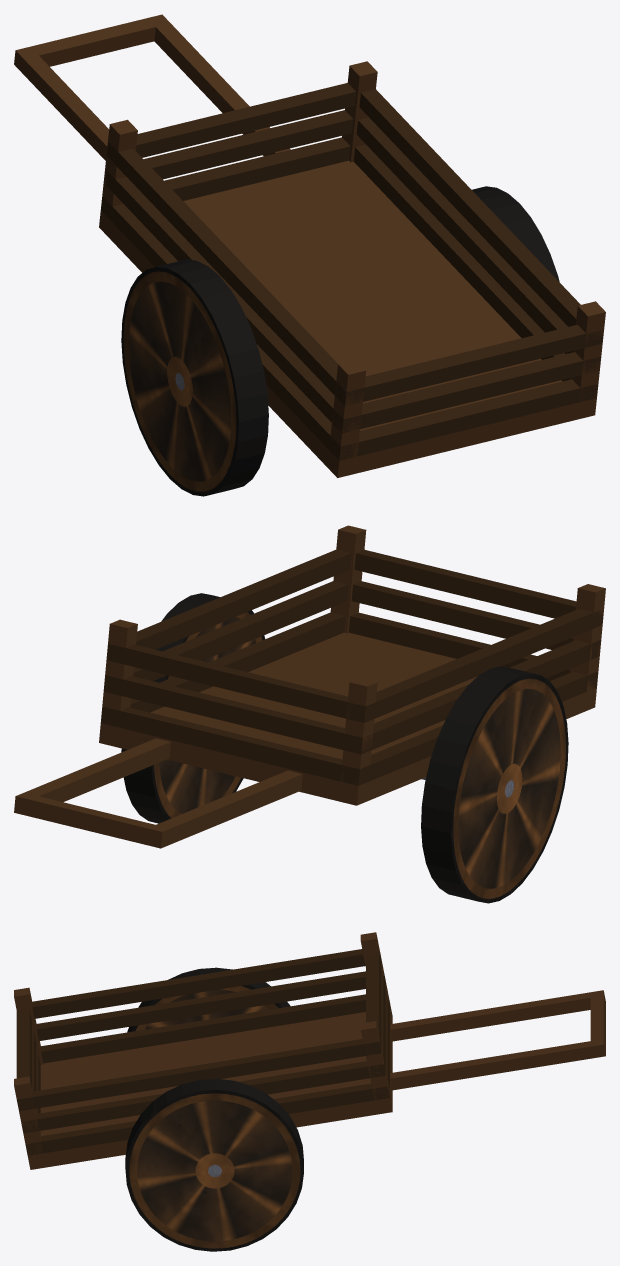
Rendered from holzwagen_t2_blur_hand.fbx.
3 views of the same model, one above another, from view 1: azimuth 30°, elevation 25°; view 2: azimuth 150°, elevation 25°; view 3: azimuth 270°, elevation 25° (orthographic). The views are drawn at different scales.
Visible parts, largest first — view 1: Holzwagen_T2_blur; view 2: Holzwagen_T2_blur; view 3: Holzwagen_T2_blur.
Part boxes in pixels (x1,y1,x2,y2): Holzwagen_T2_blur: (14, 14, 605, 496); Holzwagen_T2_blur: (14, 525, 605, 903); Holzwagen_T2_blur: (14, 932, 605, 1251).
Bounding box in the file's own units: 110 × 88.49 × 225.
